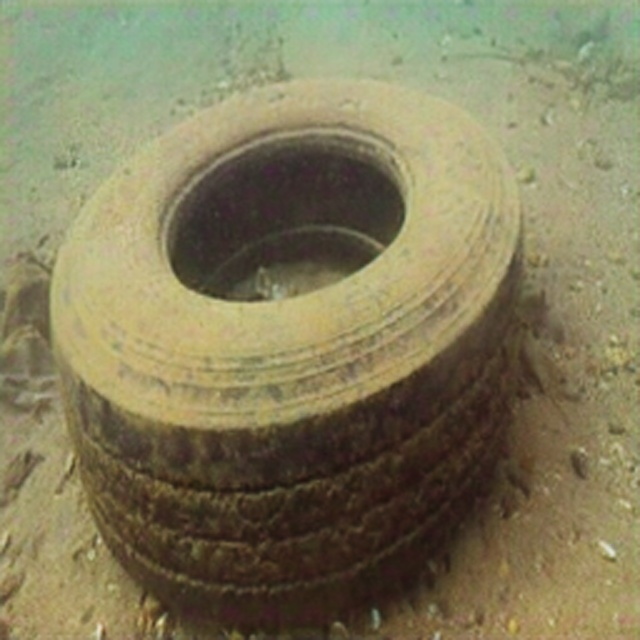mine: (48, 74, 524, 636)
